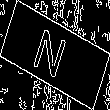N_SW: (34, 24, 76, 86)
